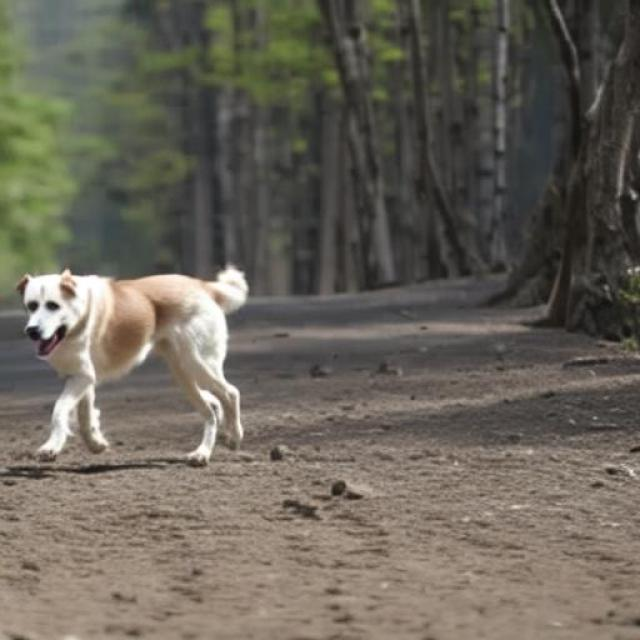Dog: (13, 260, 250, 468)
